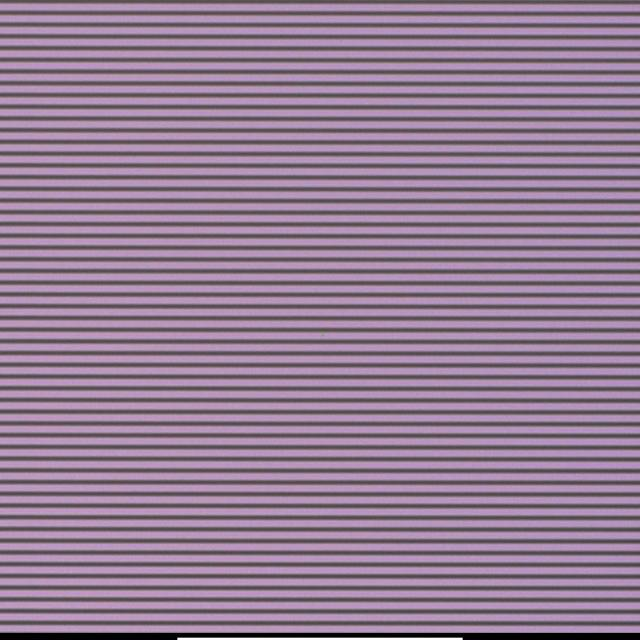nonvisual: (314, 325, 329, 344)
